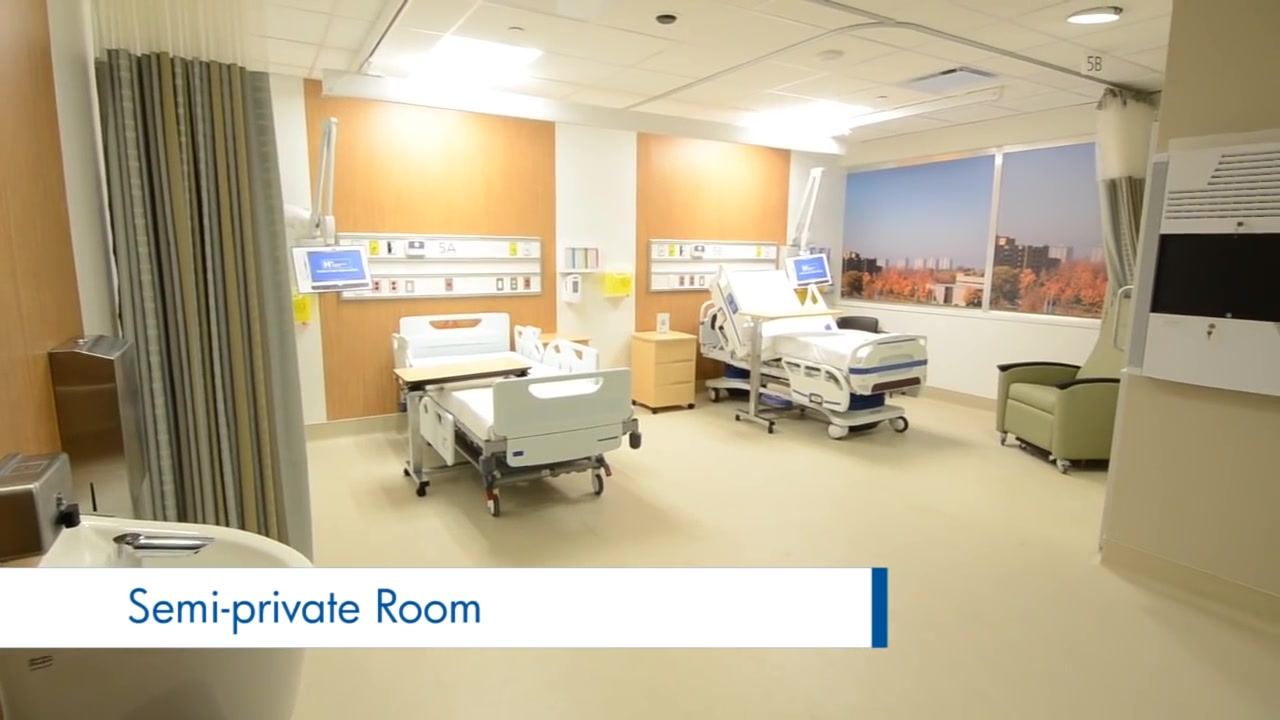bedrail: (514, 325, 603, 377), (782, 357, 850, 419), (713, 266, 752, 351), (419, 397, 457, 468), (801, 283, 839, 330)
bedside_monitor: (291, 244, 372, 291), (789, 255, 831, 285)
bedside_table: (630, 332, 698, 414)
chair: (997, 285, 1133, 474), (835, 314, 881, 335)
curtain: (94, 51, 312, 515), (1093, 84, 1149, 281)
dispenser: (54, 334, 149, 518), (563, 246, 601, 272), (563, 275, 582, 306)
foot_board: (494, 369, 640, 470), (852, 332, 930, 400)
handle: (1111, 285, 1134, 358)
hospital_bed: (392, 312, 643, 518), (694, 265, 930, 440)
medical_waste_container: (603, 265, 635, 298)
overbed_table: (392, 359, 525, 503), (734, 305, 846, 435)
sink: (33, 516, 300, 568)
